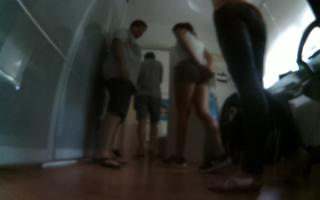person: (209, 1, 290, 198), (159, 20, 228, 170), (89, 15, 147, 173), (131, 47, 164, 161)
